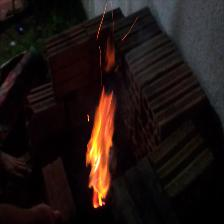fire: (85, 42, 134, 213)
